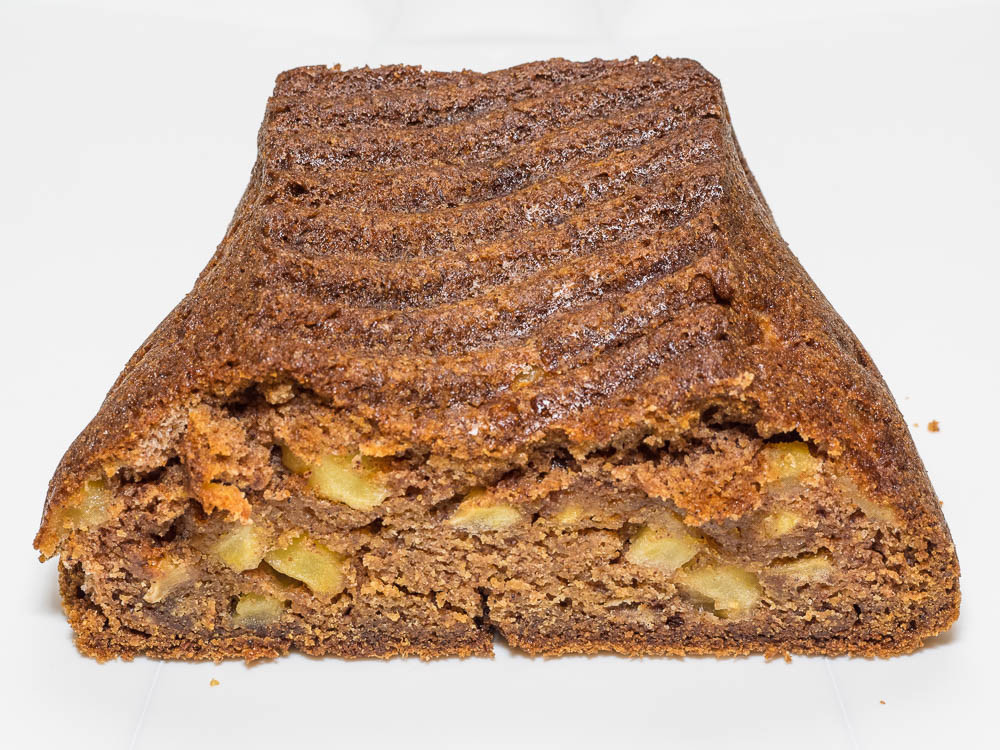slice of bread: (250, 70, 890, 665)
